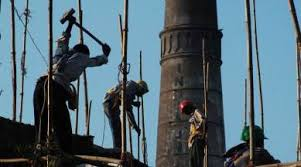helmet: (137, 73, 151, 90), (177, 97, 193, 109)
vest: (182, 112, 204, 142)
